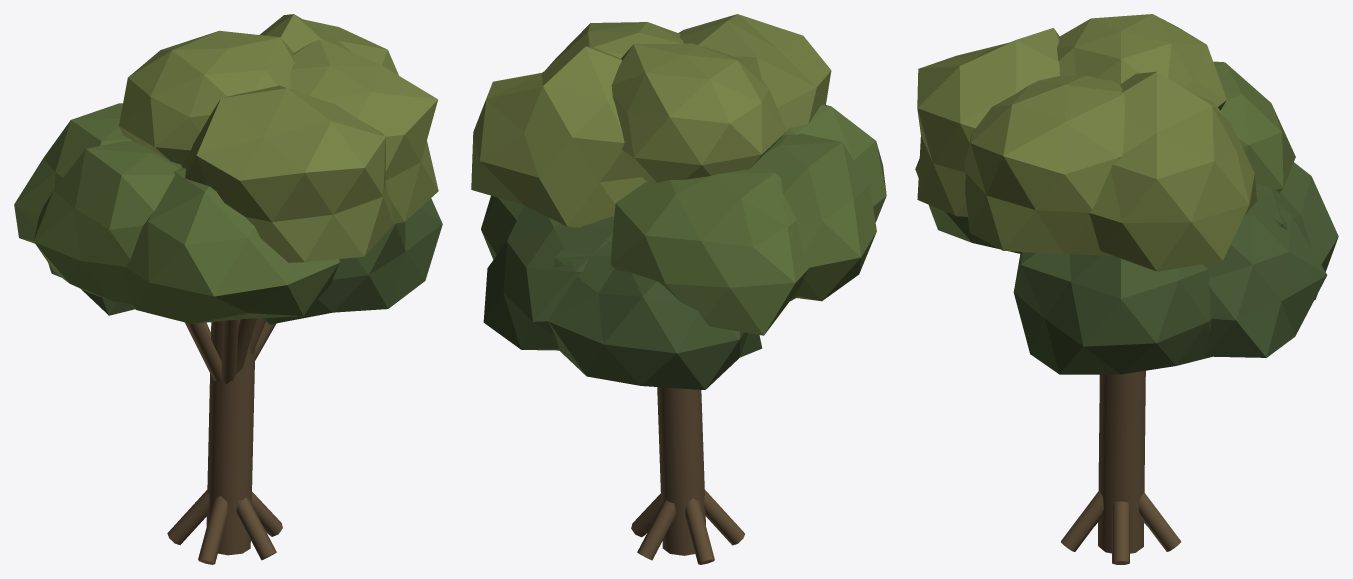
File: tree-oak.glb
3 renders of one model, left to right at view 1: azimuth 30°, elevation 25°; view 2: azimuth 150°, elevation 25°; view 3: azimuth 270°, elevation 25°, orthographic. The views are drawn at different scales.
Visible parts, largest first — view 1: Foliage sun, Foliage middle, Bark, Foliage shadow; view 2: Foliage sun, Foliage middle, Foliage shadow, Bark; view 3: Foliage sun, Foliage shadow, Bark, Foliage middle.
Boxes of the visible parts, box(x1,y1,x2,y2) form: Foliage sun: box(119, 14, 438, 262); Foliage middle: box(14, 103, 339, 323); Bark: box(167, 318, 282, 564); Foliage shadow: box(48, 198, 442, 324); Foliage sun: box(471, 14, 831, 227); Foliage middle: box(610, 104, 886, 335); Foliage shadow: box(481, 195, 762, 389); Bark: box(631, 387, 744, 564); Foliage sun: box(917, 14, 1256, 271); Foliage shadow: box(1013, 162, 1338, 374); Bark: box(1061, 370, 1180, 564); Foliage middle: box(915, 61, 1295, 253).
Size of the model in its own units: 3.9 by 4.86 by 3.62.
